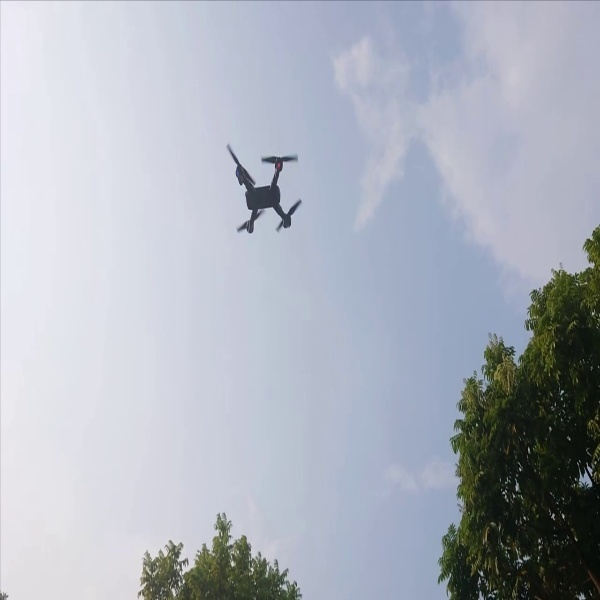drone: (215, 139, 308, 237)
